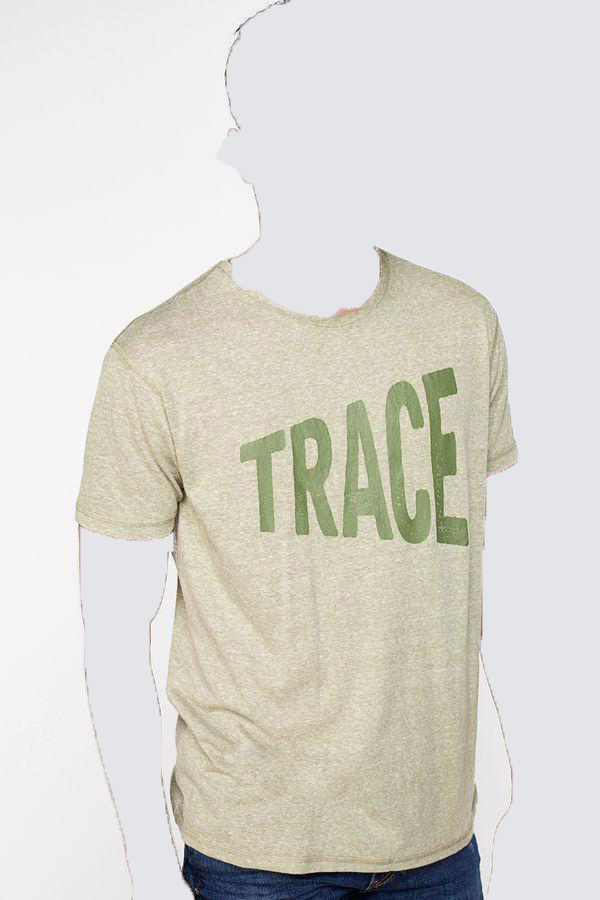teeshirt: (68, 249, 523, 873)
